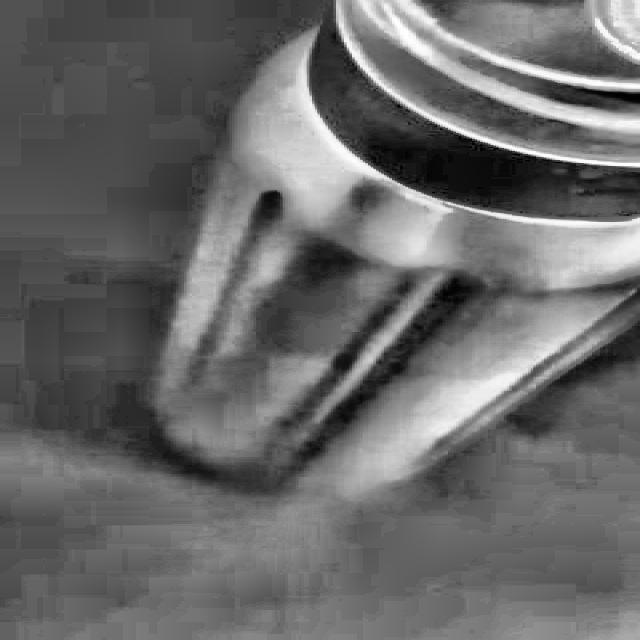bottle: (147, 0, 640, 498)
